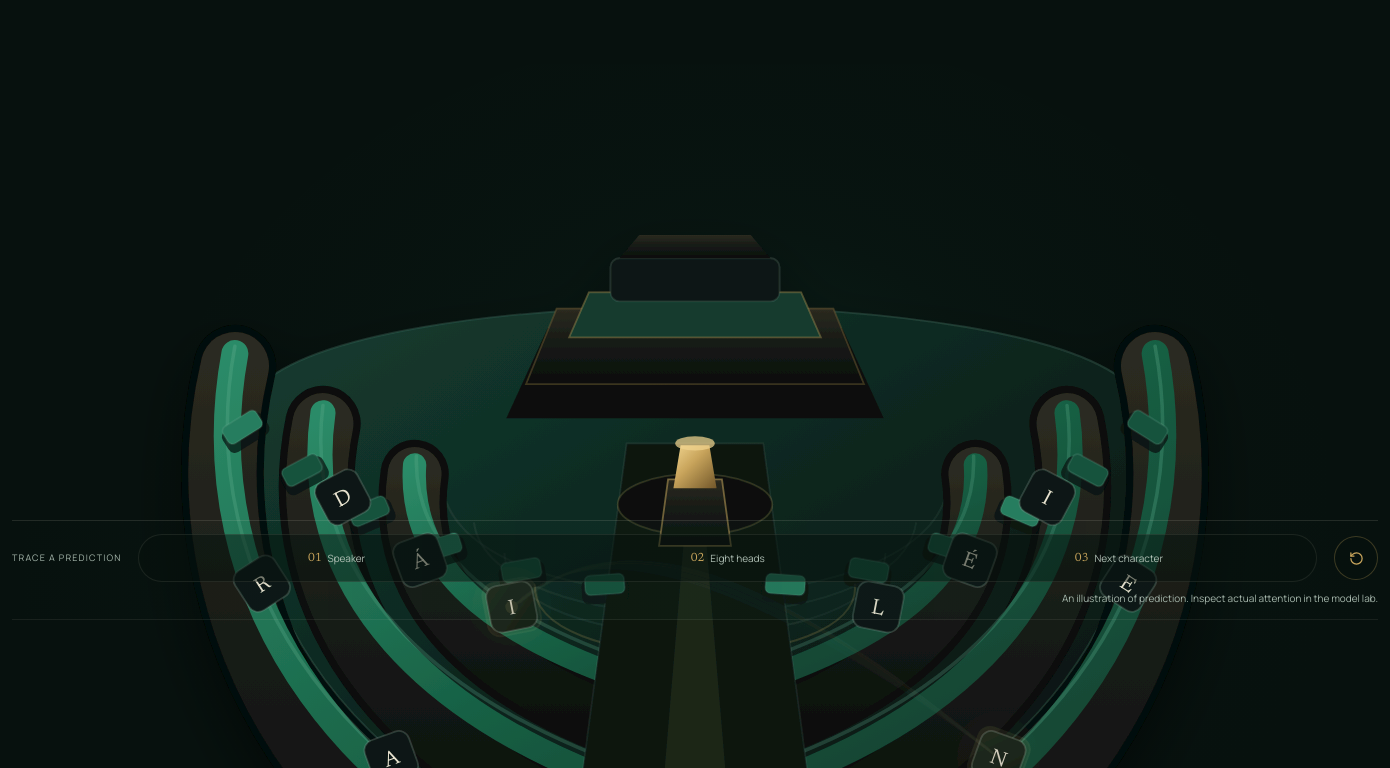
Scenario: parliamentary hero scene › announces trace captions politely and atomically
The width and height of the screenshot is (1390, 768).
Expected: the message reads "An illustration of prediction. Inspect actual attention in the model lab.", [1062,591,1378,605]
Click the button "02 Eight heads".
click(728, 558)  # box [534,538,922,578]
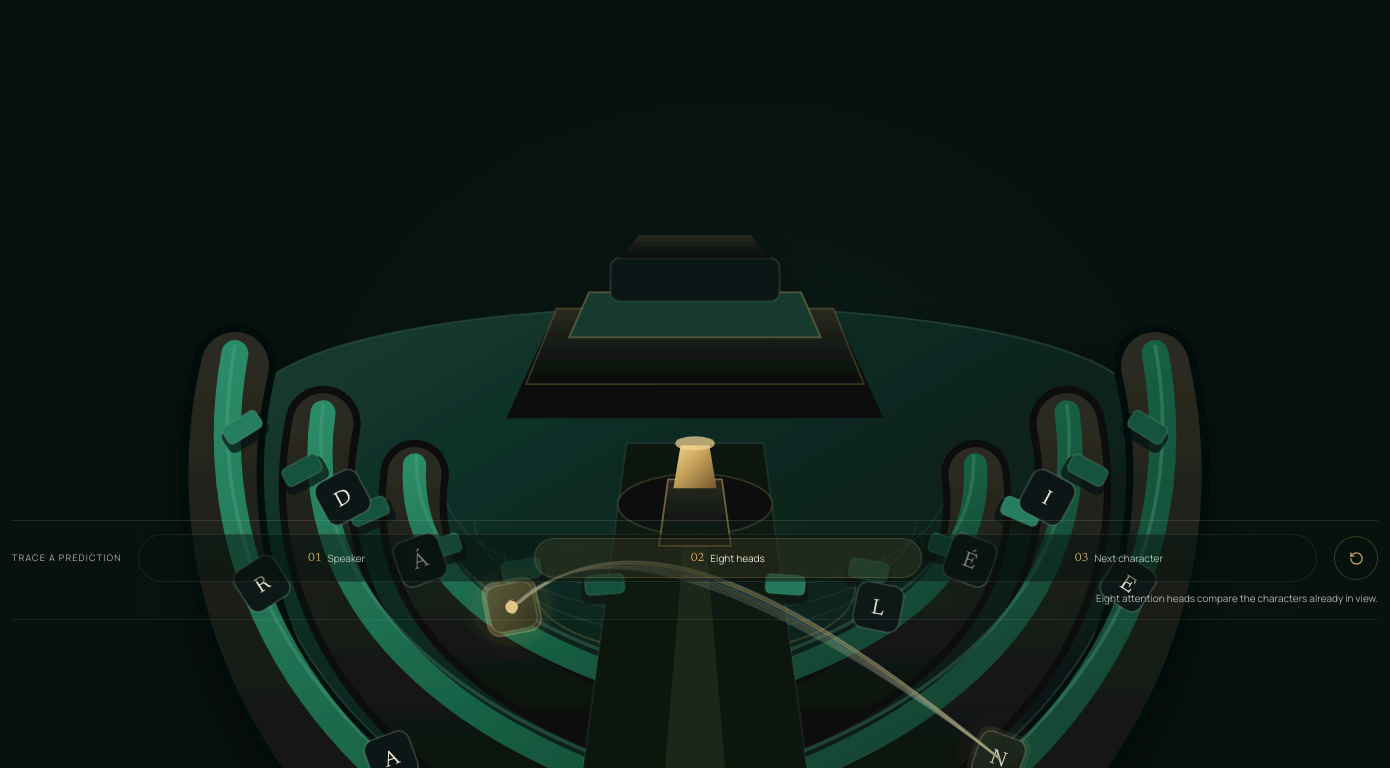
Expected: the message reads "Eight attention heads compare the characters already in view.", [1096,591,1378,605]
